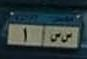1: (21, 27, 29, 42)
seen: (61, 31, 72, 44), (49, 31, 60, 43)
